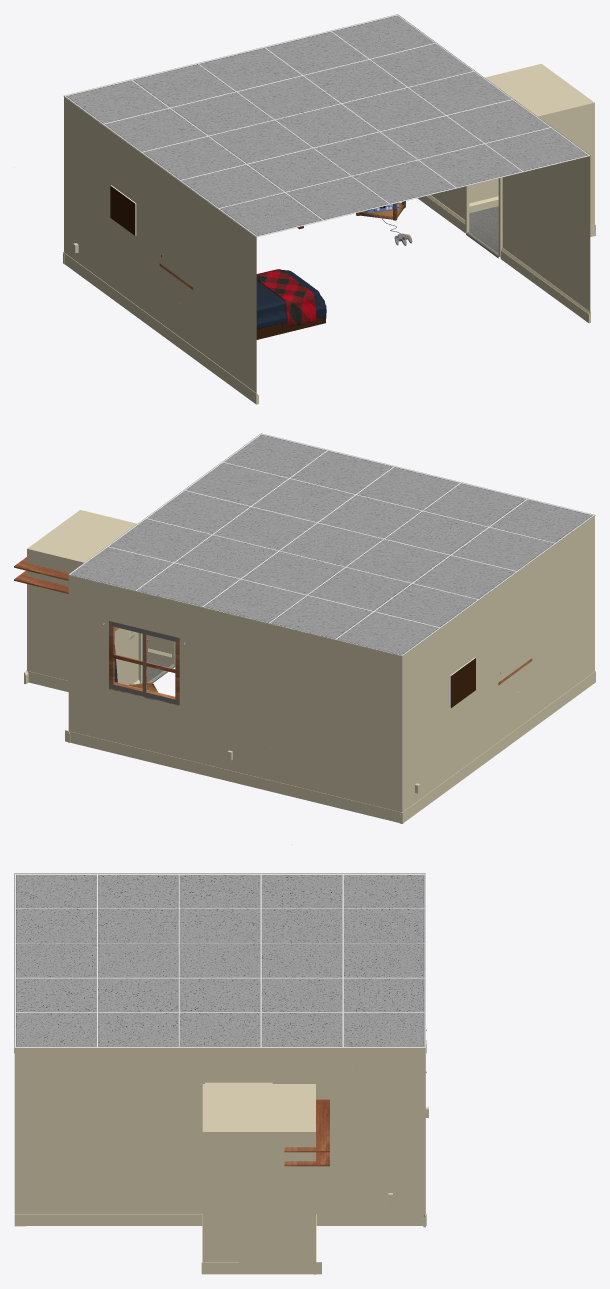
The model's file is Shell-transformed.glb.
3 views of the same model, one above another, from view 1: azimuth 30°, elevation 25°; view 2: azimuth 150°, elevation 25°; view 3: azimuth 270°, elevation 25° (orthographic). The views are drawn at different scales.
Visible parts, largest first — view 1: Cube.009; view 2: Cube.009; view 3: Cube.009.
Boxes of the visible parts, bbox=[...] form: Cube.009: bbox=[14, 14, 595, 404]; Cube.009: bbox=[14, 433, 595, 823]; Cube.009: bbox=[14, 873, 428, 1274].
Size of the model in its own units: 11.78 by 4.33 by 12.77.
70 materials, 22 textured.
